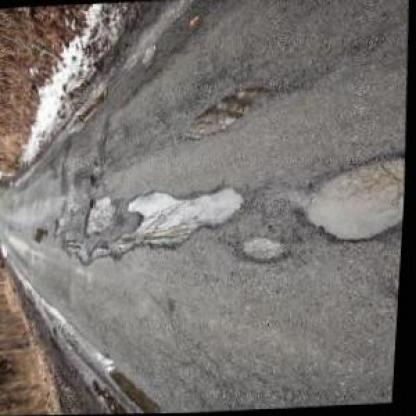pothole: (296, 153, 408, 248), (125, 186, 248, 252), (177, 84, 272, 142), (60, 233, 132, 265), (237, 234, 293, 265), (83, 194, 119, 236), (53, 215, 69, 237)
